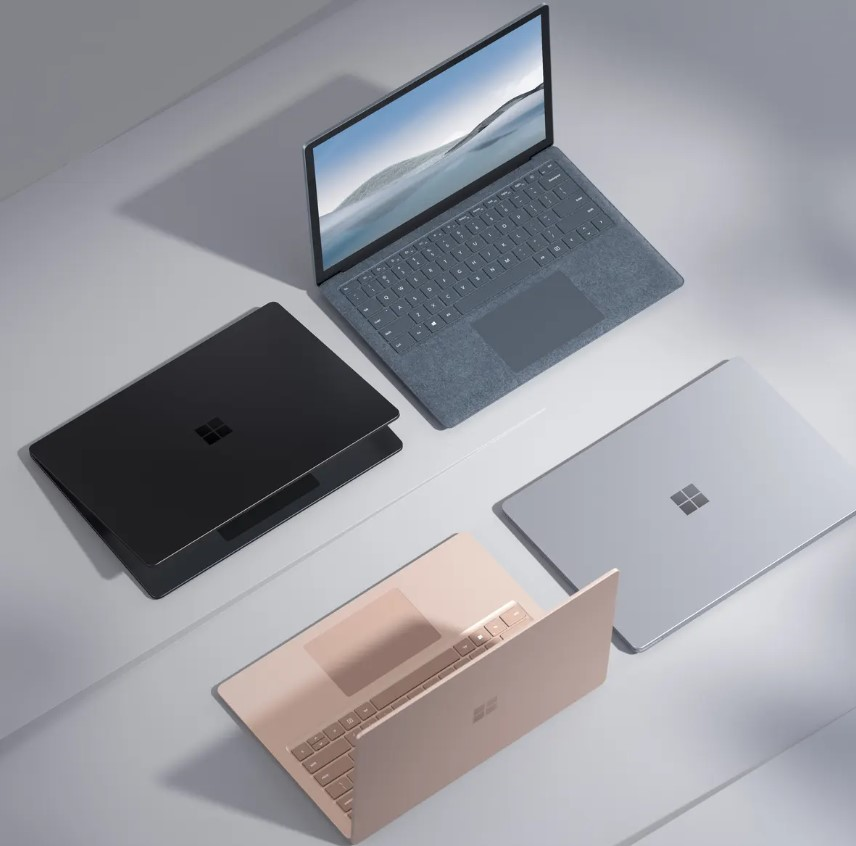laptops: (266, 13, 747, 421), (162, 553, 624, 834), (10, 301, 402, 574), (480, 388, 856, 615)
